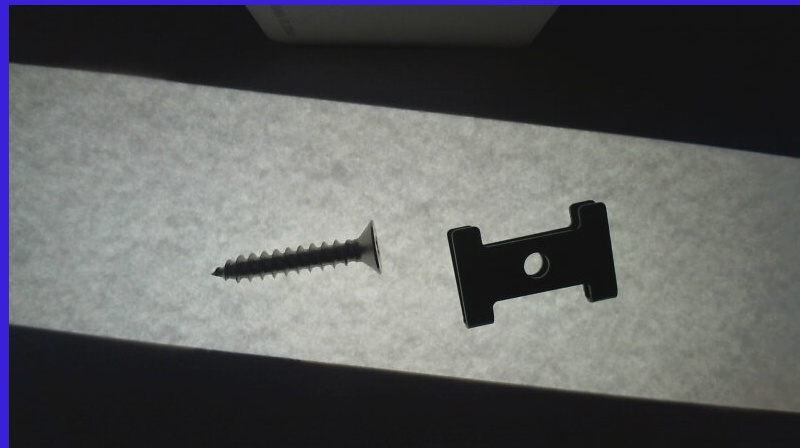O002: (448, 198, 616, 328)
S001: (211, 220, 384, 283)
